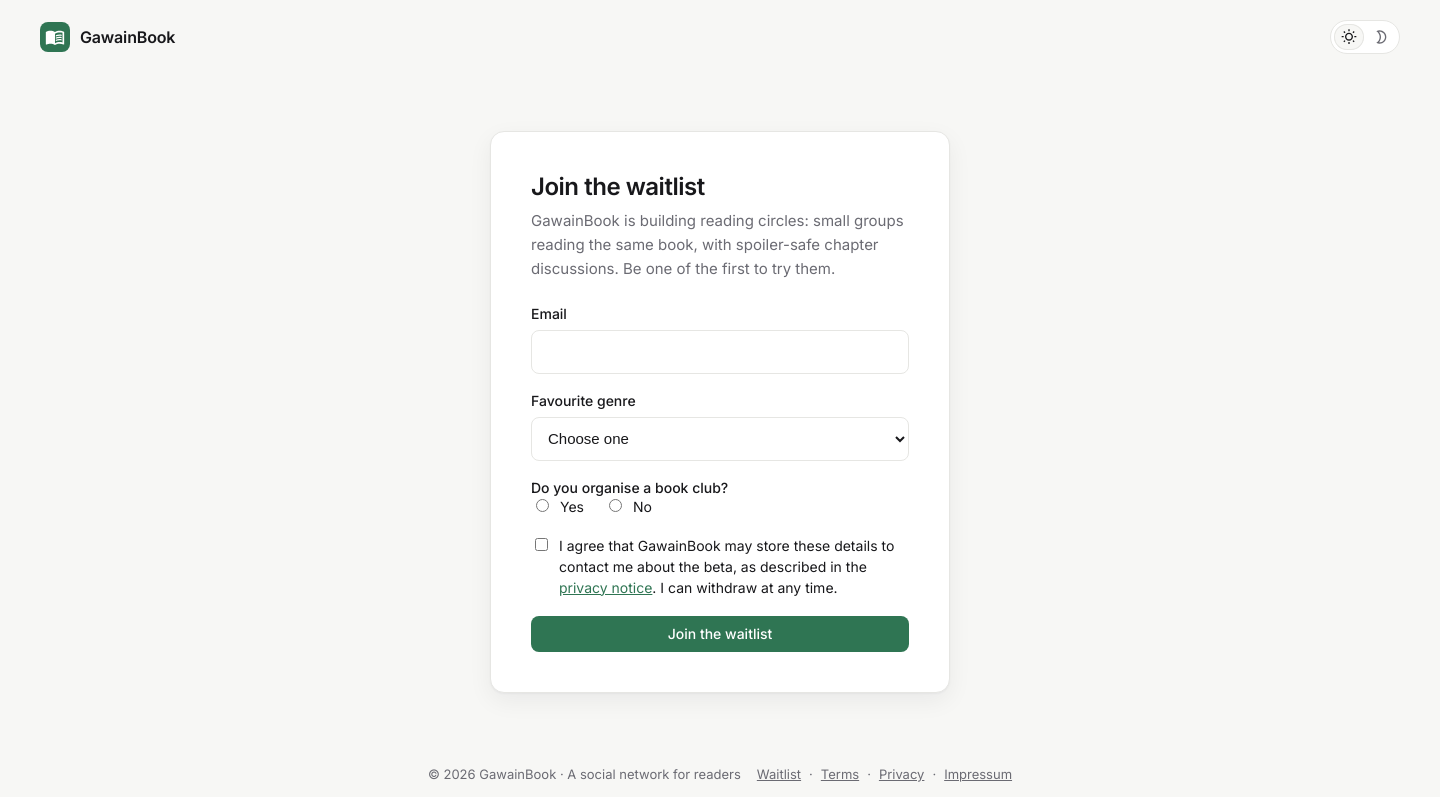
Test: consent is unticked by default and required
Expected: the checkbox is not checked, [535,538,548,551]
Type "reader@example.com" into the field labelled "Email". click: [720, 352]
box: [531,330,909,374]
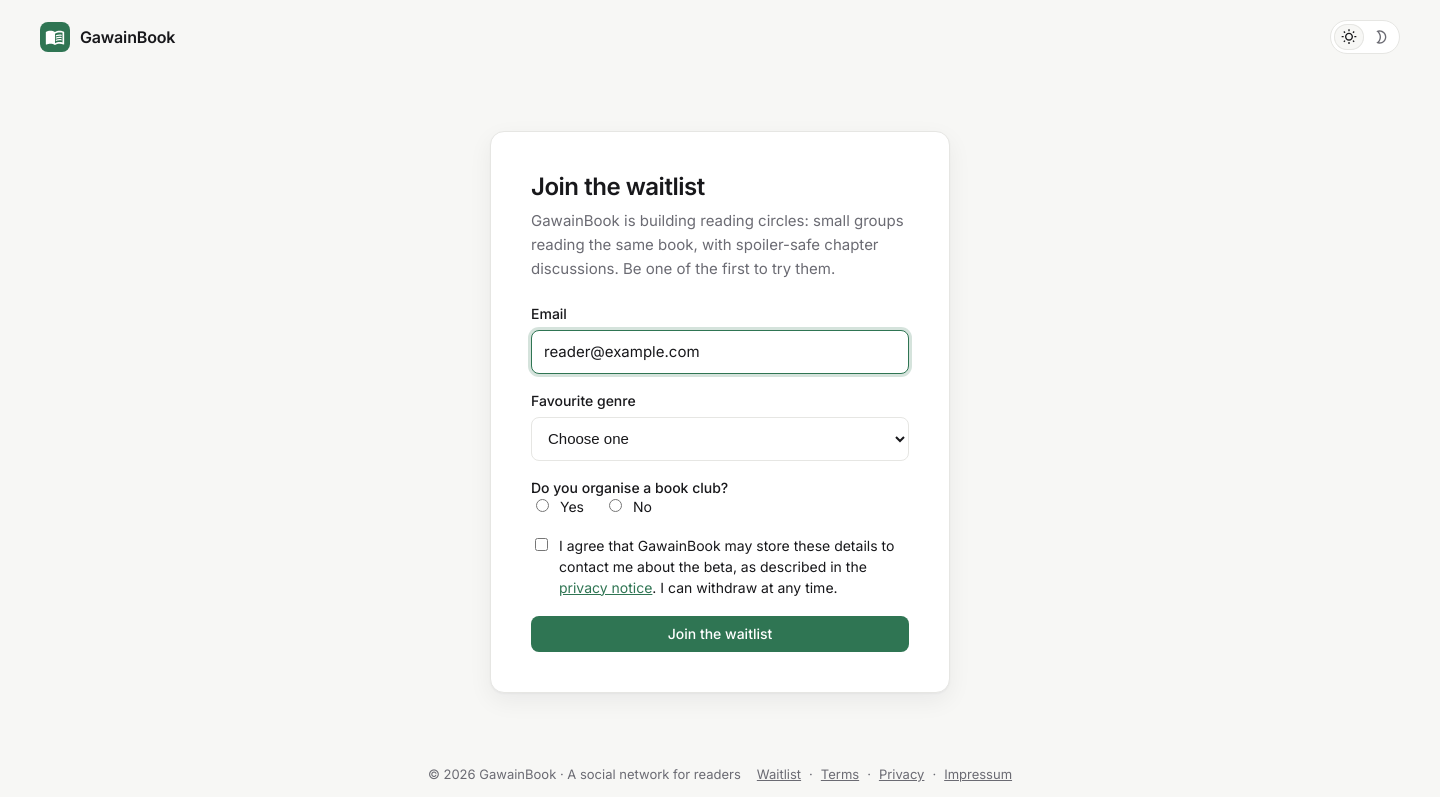
Select "Romantasy" in the dropdown labelled "Favourite genre". click: [720, 439]
box: [531,417,909,461]
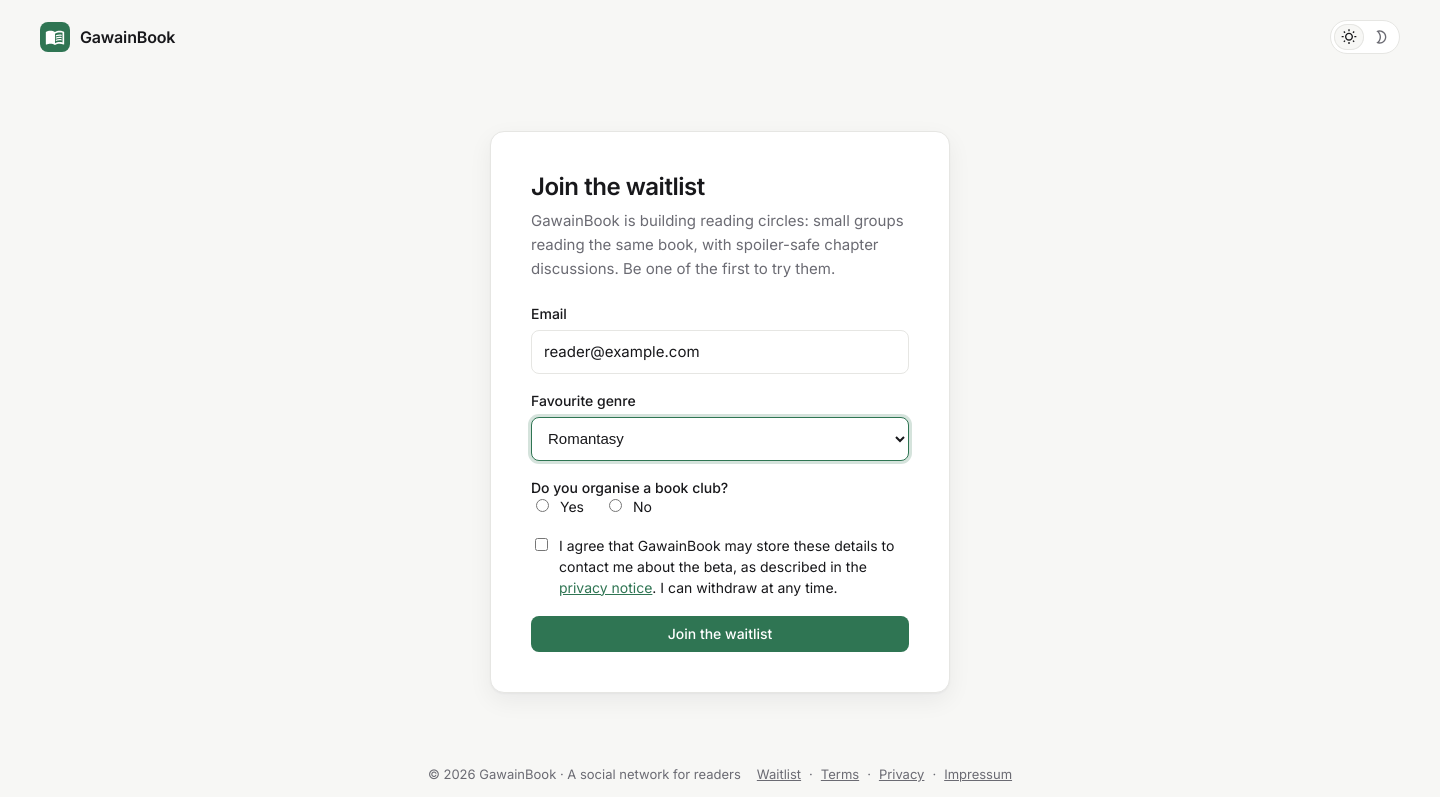
Click the radio button labelled "Yes". click: [542, 505]
box: [536,499,549,512]
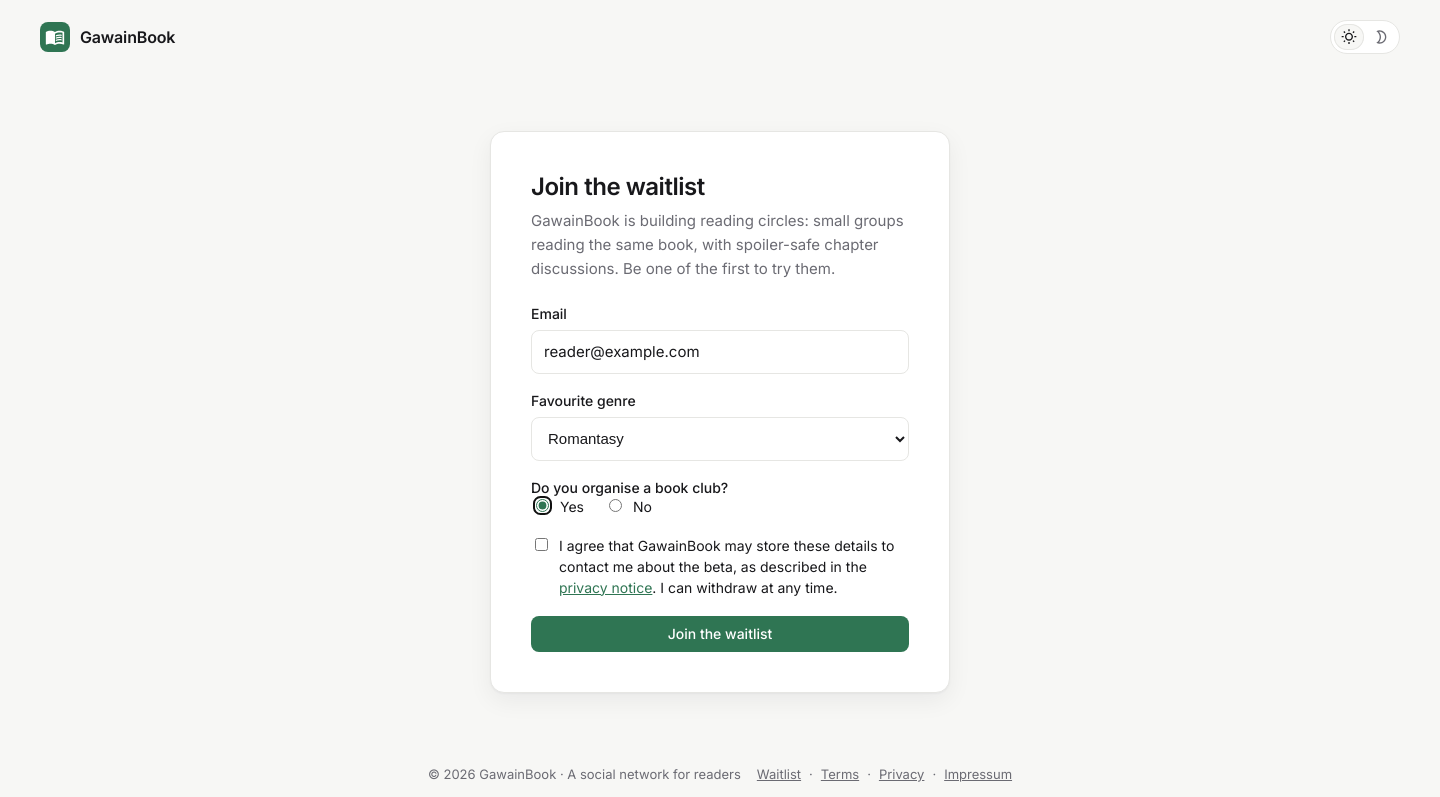
Click the button "Join the waitlist". click: [720, 634]
box: [531,616,909,652]
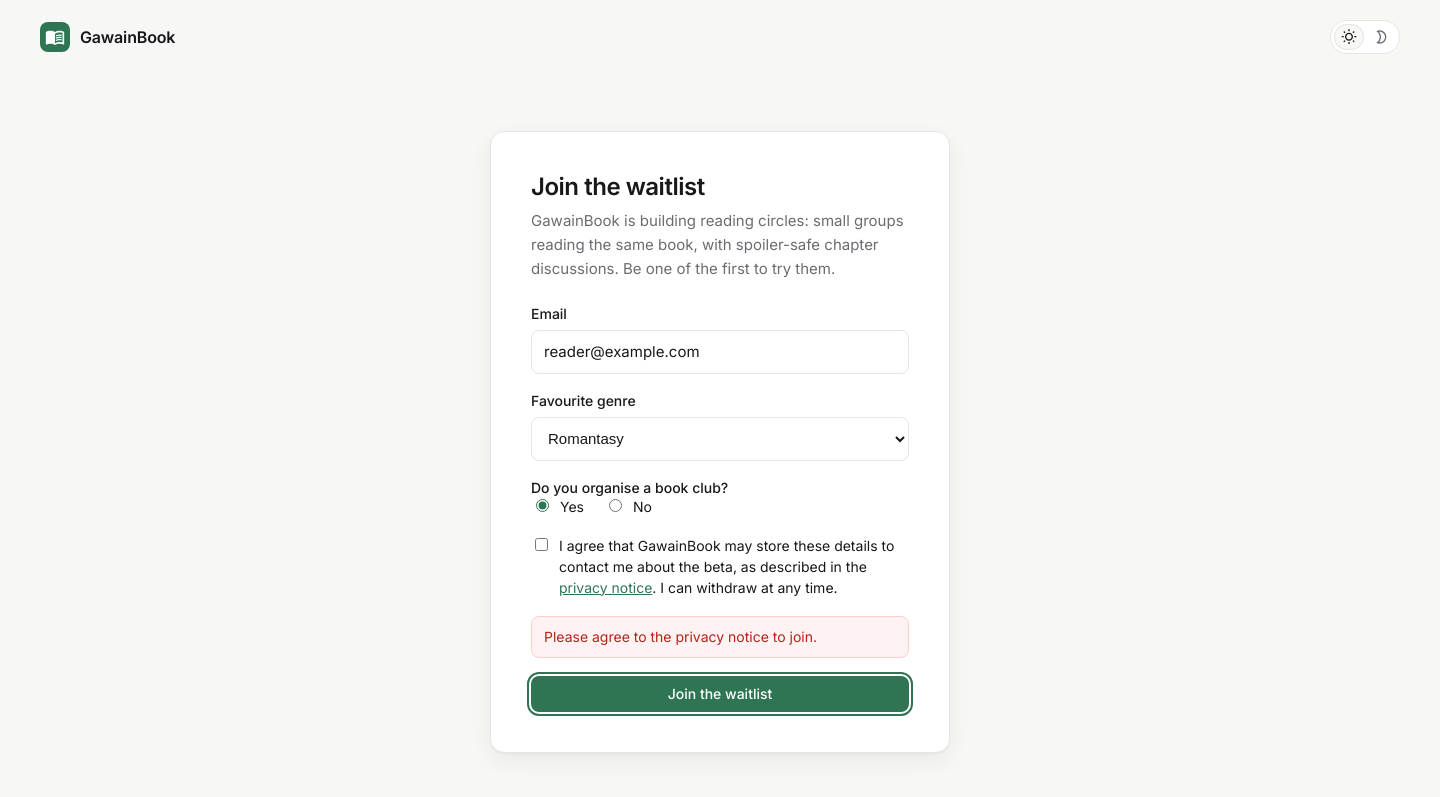
Expected: the message shows "agree to the privacy notice", [544,628,817,645]
